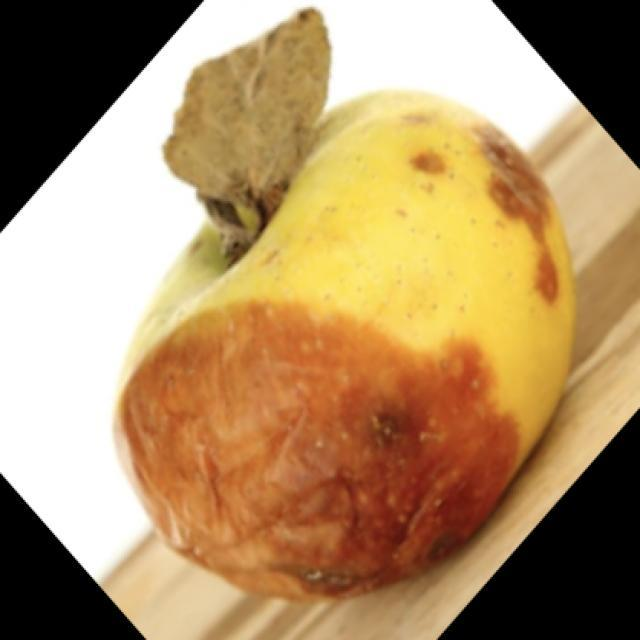Rotten: (105, 103, 597, 610)
